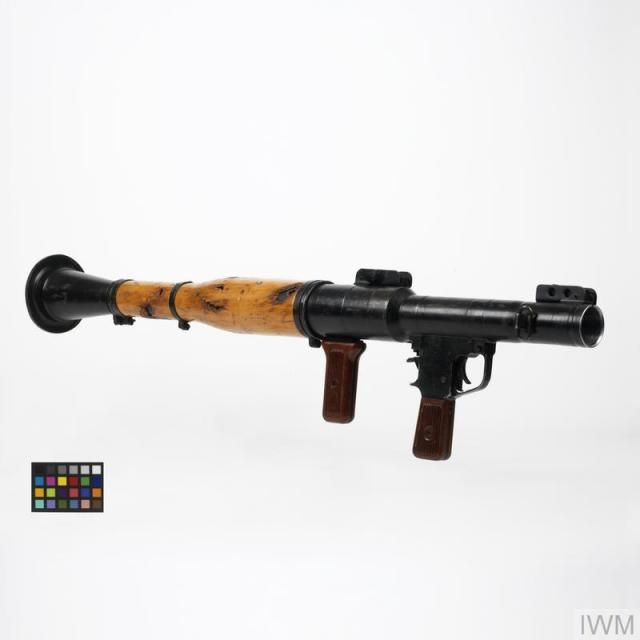bazooka: (15, 239, 632, 489)
